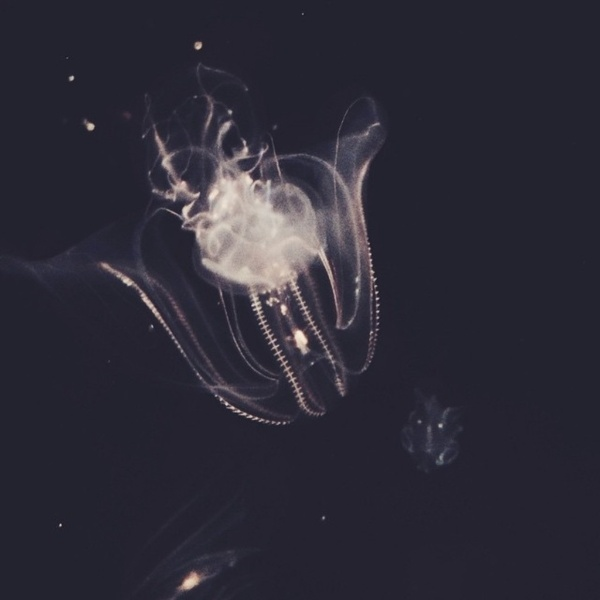Jellyfish: (137, 60, 391, 442)
